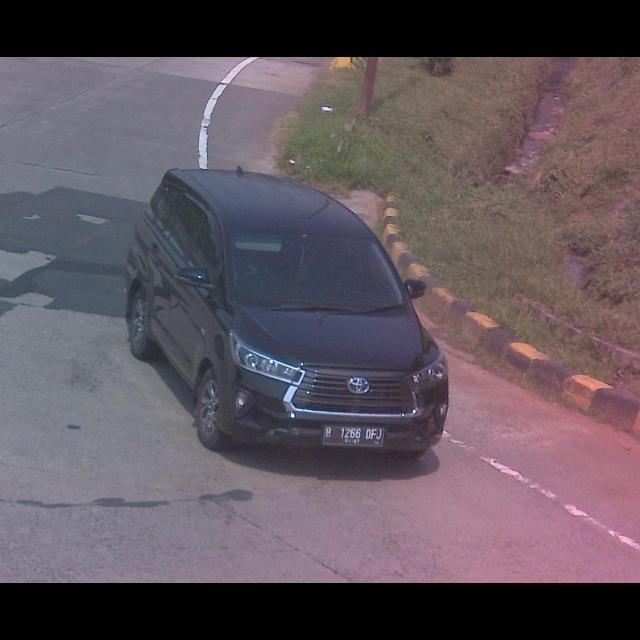plate: (322, 423, 386, 448)
